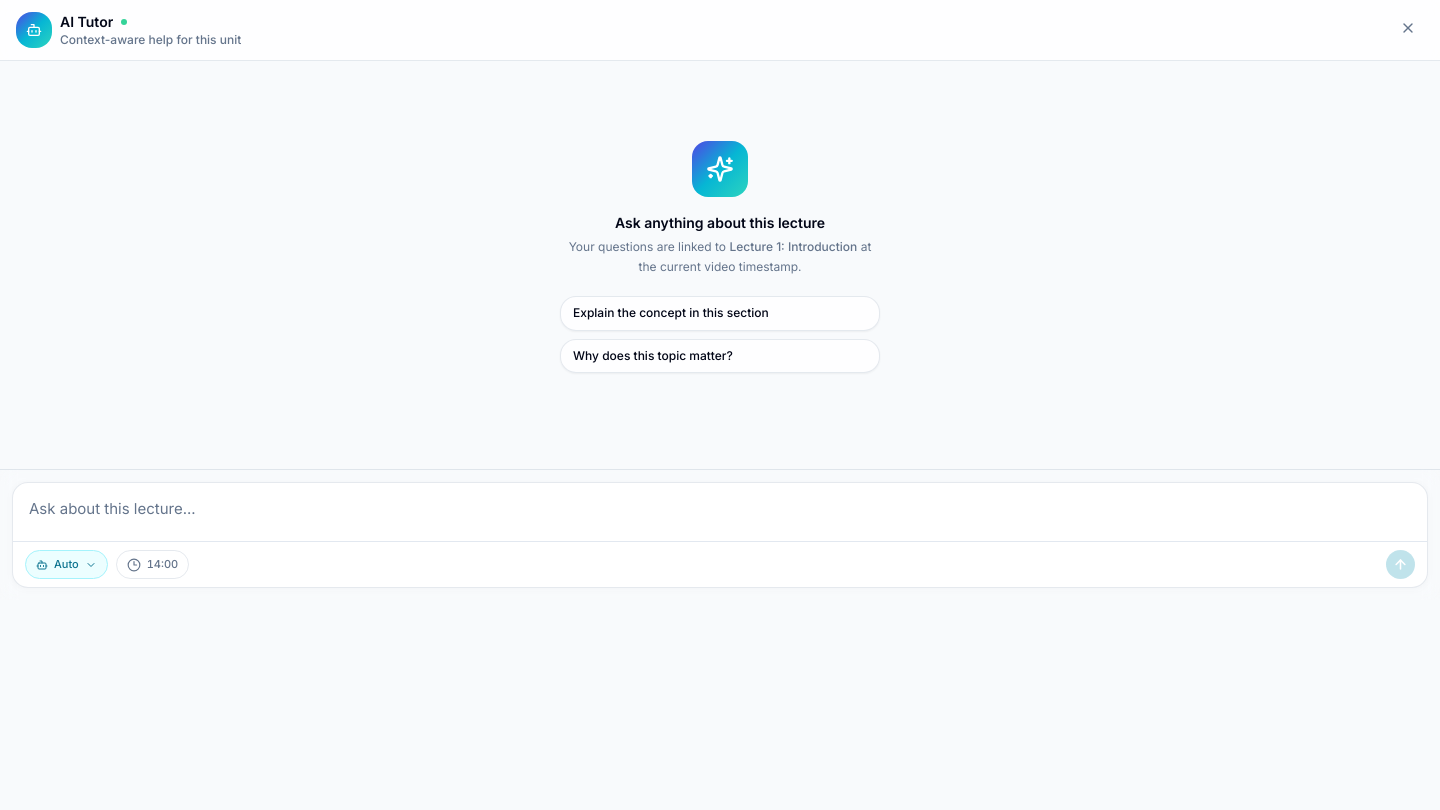
Test: InContextTutor › shows starter suggestions before the first message and hides them after chat begins
Check: the button "Explain the concept in this section" is shown, box [560,296,880,330]
Check: the button "Why does this topic matter?" is shown, box [560,338,880,373]
Type "Tell me the key idea" into the text box with placeholder "Ask about this lecture..." at [720, 509], box [13,483,1427,535]
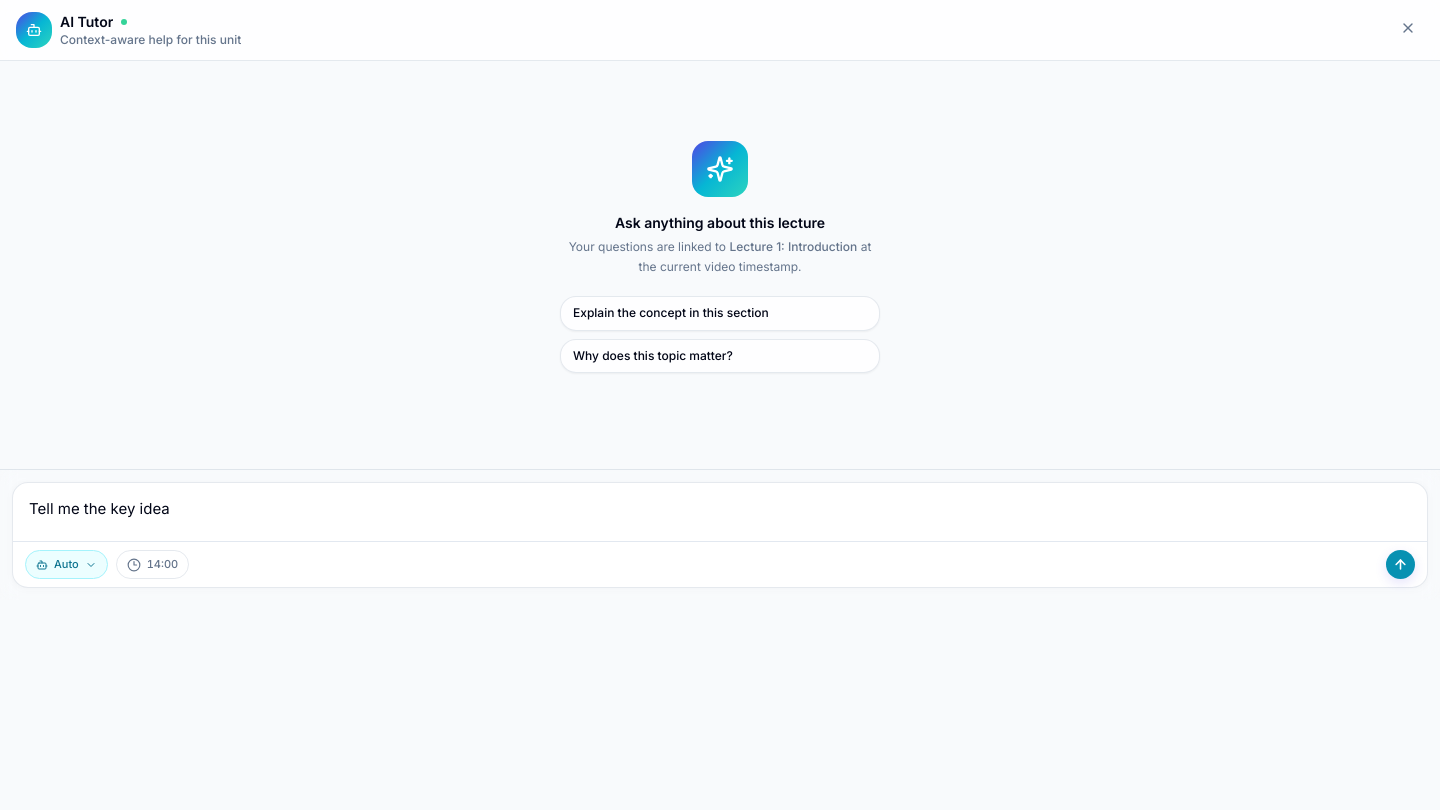
Click the button named "Send question" at [1400, 564], box [1386,550,1415,579]
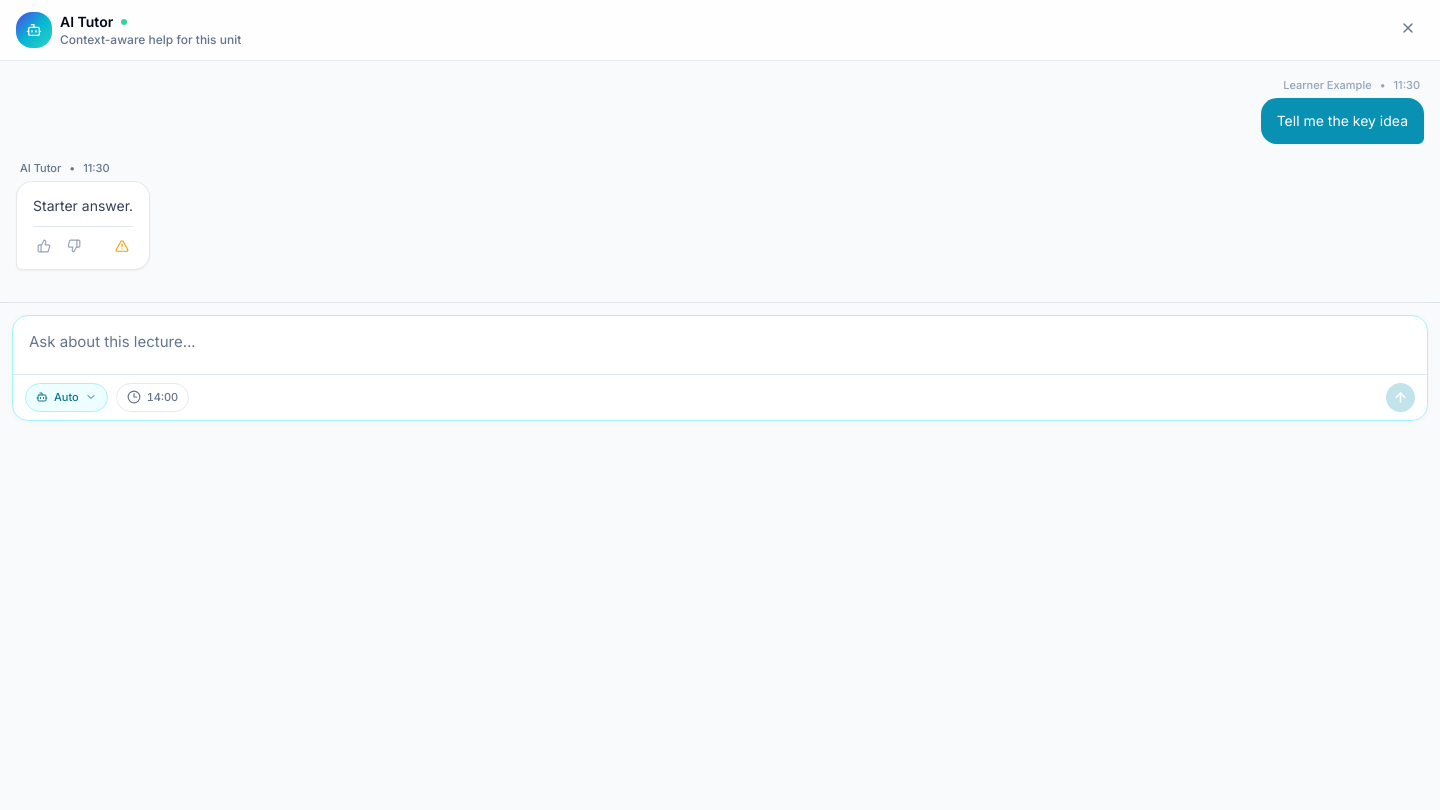
Check: the text "Starter answer." is shown, box [33,194,133,218]
Check: the button "Explain the concept in this section" is gone
Check: the button "Why does this topic matter?" is gone
